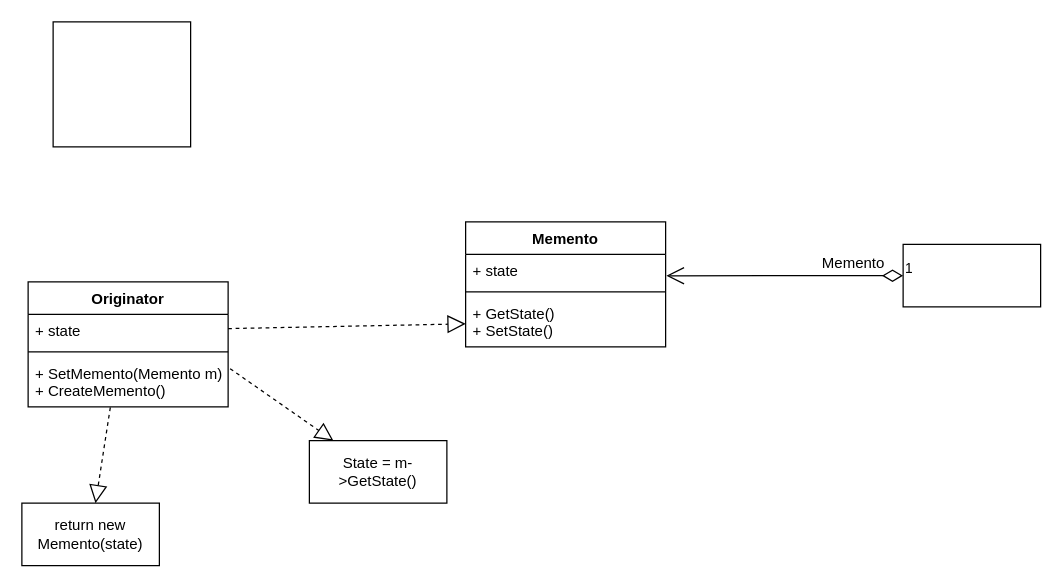
This 1063x588 diagram has some shape labels left out. Each missing label, with the centre of its shape:
"Caretaker" belongs at [971,275].
"在不破坏封装性的捕获一个对象的内部状态，并在对象之外保存这个状态，这样以后就可将该对象恢复到原先保存的状态" belongs at [121,84].
